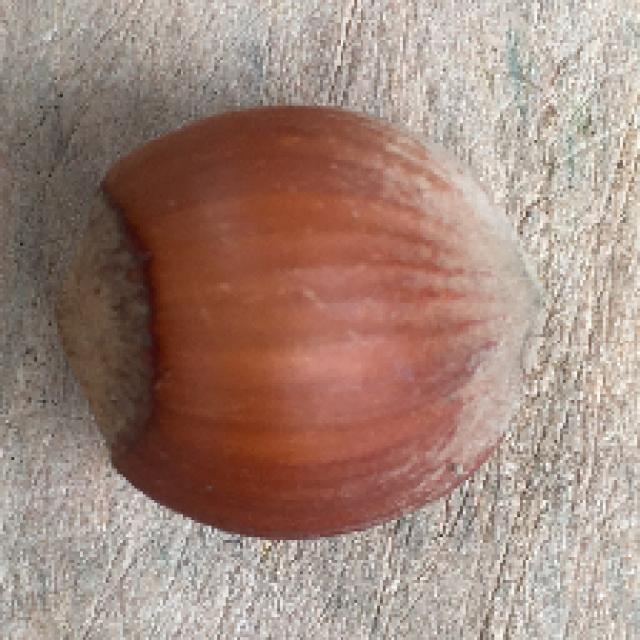qualityHazelnut: (52, 98, 538, 544)
